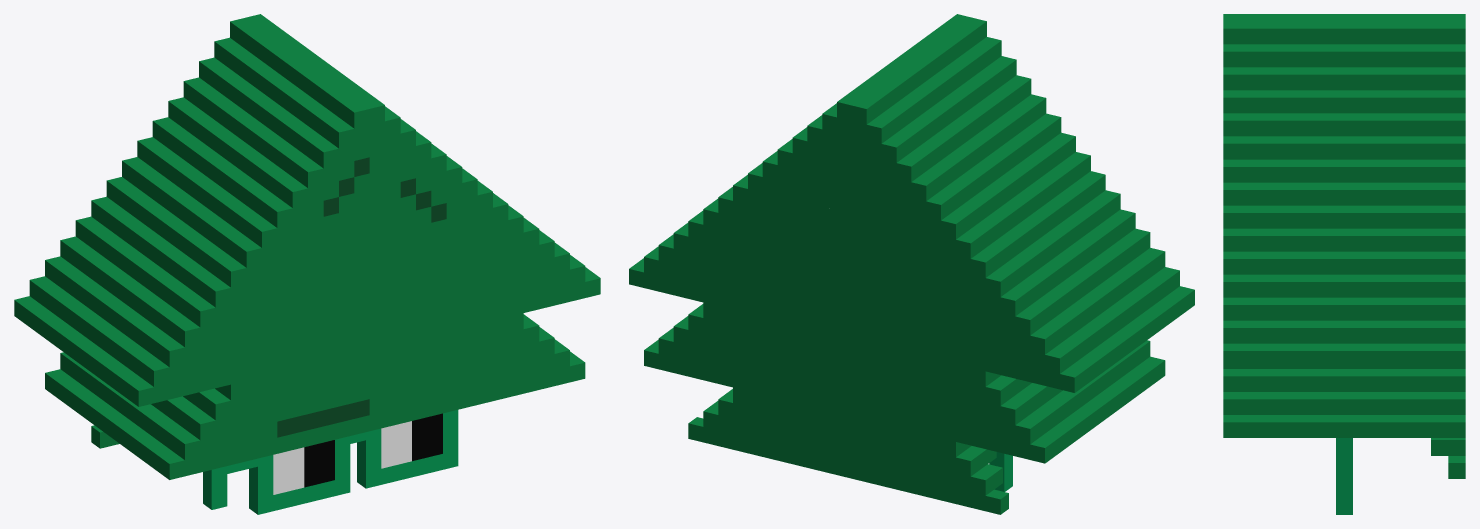
Rendered from fir.glb.
3 views of the same model, side by side, from view 1: azimuth 30°, elevation 25°; view 2: azimuth 150°, elevation 25°; view 3: azimuth 270°, elevation 25° (orthographic). The views are drawn at different scales.
Parts seen in each view (by area): view 1: Fir, monture, glass (1), mouth; view 2: Fir; view 3: Fir, monture.
Boxes of the visible parts, x1,y1,x2,y2 form: Fir: (14,14,600,479); monture: (203,410,458,514); glass (1): (273,413,442,494); mouth: (277,399,369,437); Fir: (629,14,1194,514); Fir: (1223,14,1465,478); monture: (1336,438,1352,514).
Bounding box in the file's own units: 30 × 27 × 14.
6 materials, 6 textured.
